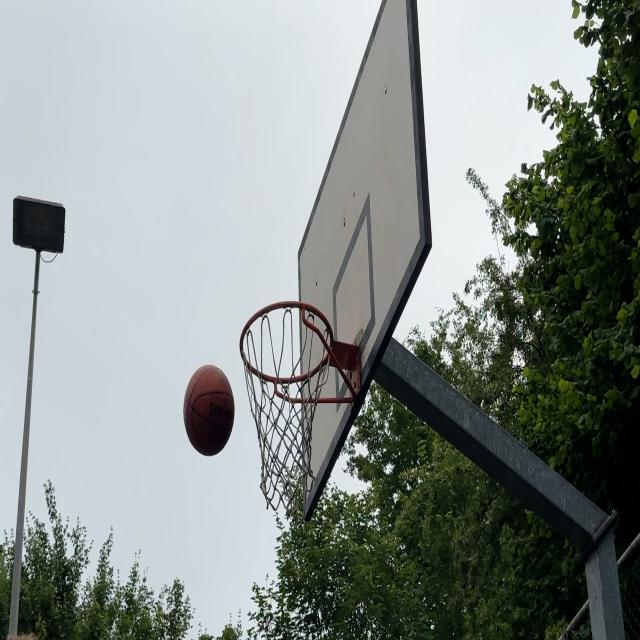Basketball: (185, 367, 234, 458)
